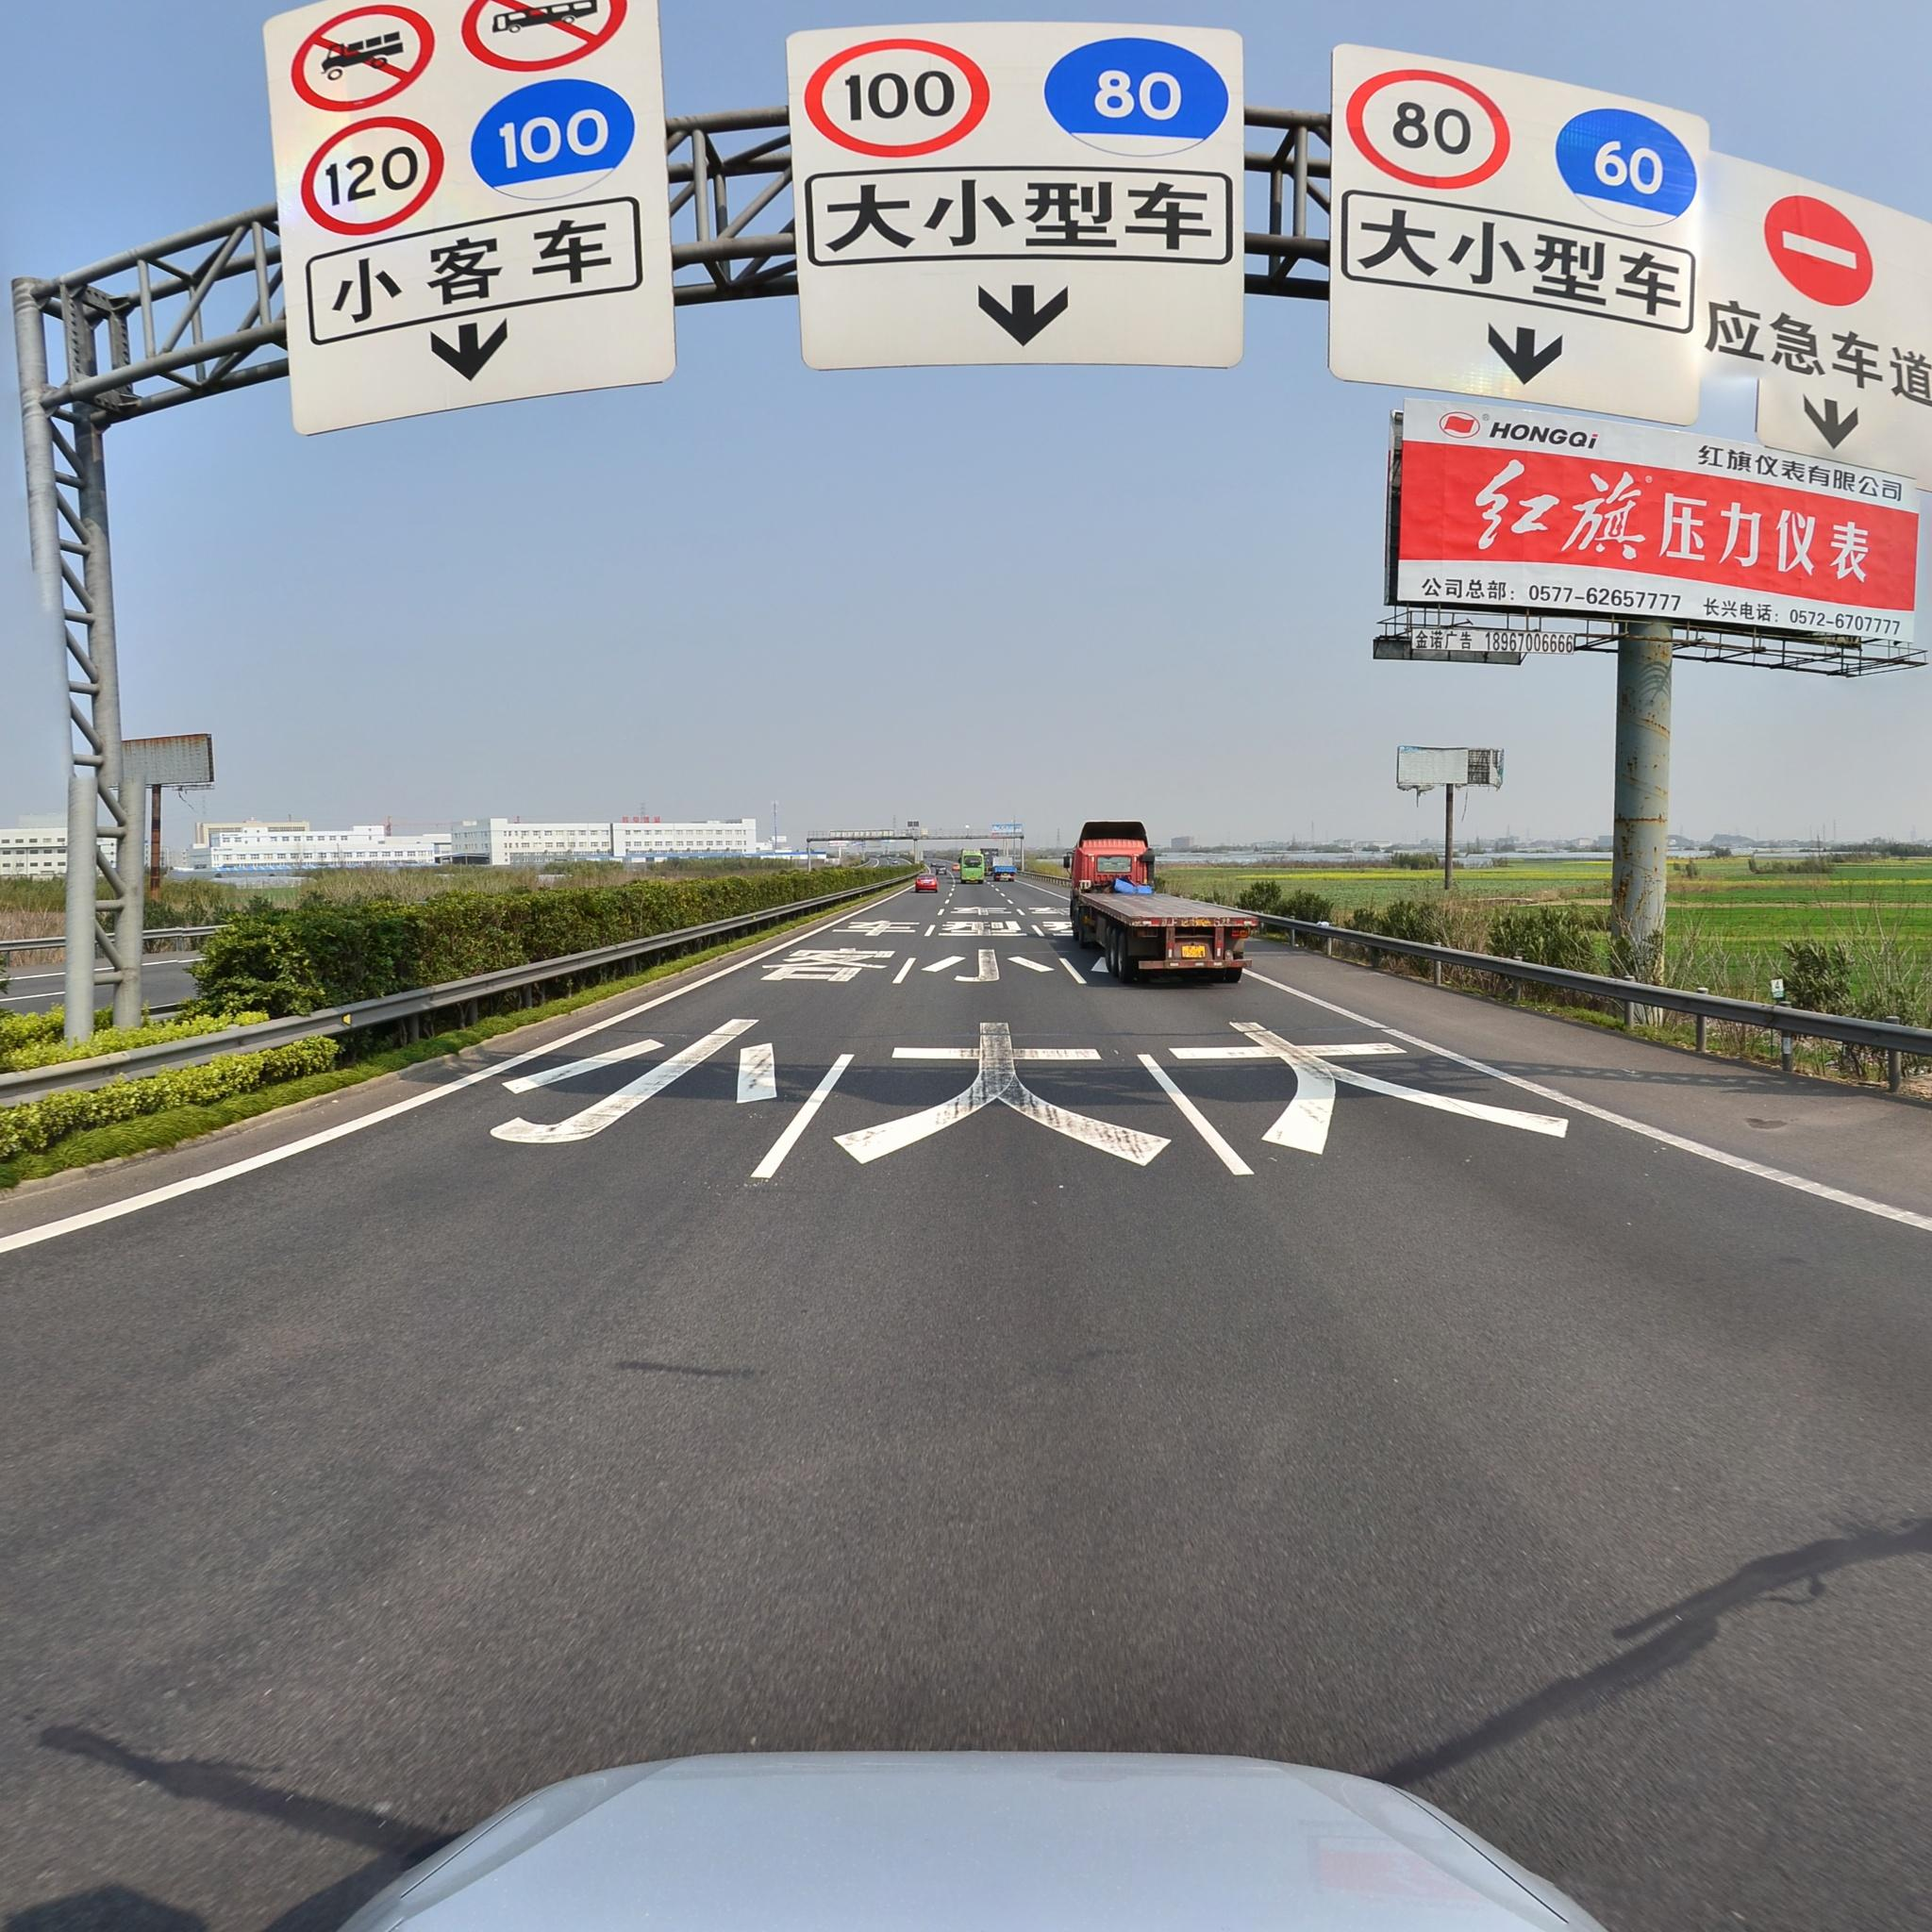il100: (485, 80, 633, 193)
il60: (1559, 96, 1706, 234)
il80: (1049, 35, 1231, 150)
p26: (288, 2, 428, 101)
p3: (485, 9, 626, 60)
pl100: (817, 41, 998, 161)
pl120: (303, 115, 442, 237)
pl80: (1353, 64, 1499, 186)
pne: (1766, 188, 1884, 318)
